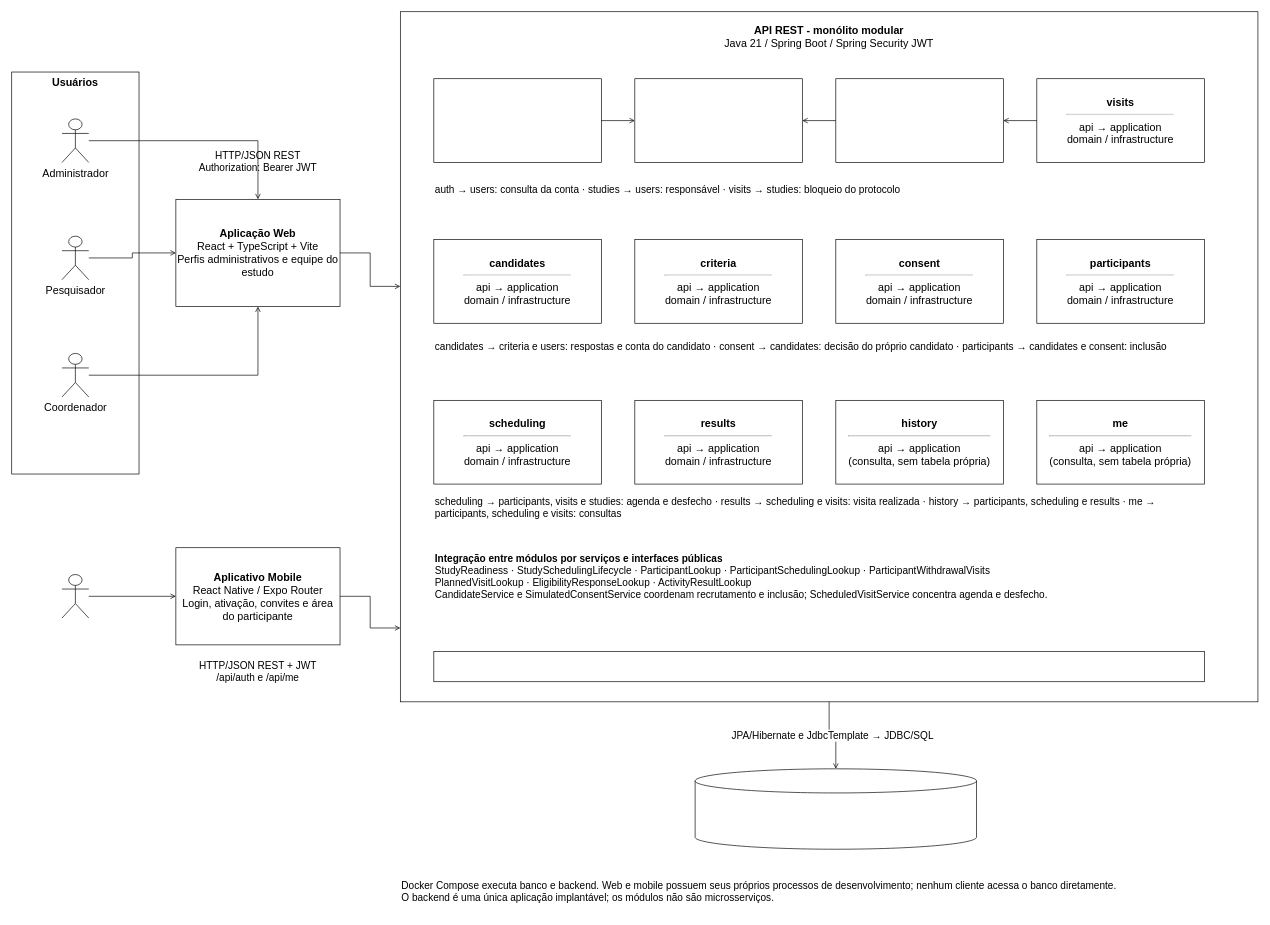
Image size: 1270x925. Some labels were removed from this diagram. Each missing label, with the centre of its shape:
"auth api → application domain / infrastructure" goes at (x=517, y=120).
"Participante (candidato)" goes at (x=75, y=596).
"PostgreSQL 18 Persistência + migrações Flyway (V1–V15)" goes at (x=835, y=808).
"shared : CurrentActor, erros HTTP e componentes técnicos compartilhados" goes at (x=818, y=666).
"studies api → application domain / infrastructure" goes at (x=919, y=120).
"users api → application domain / infrastructure" goes at (x=718, y=120).
